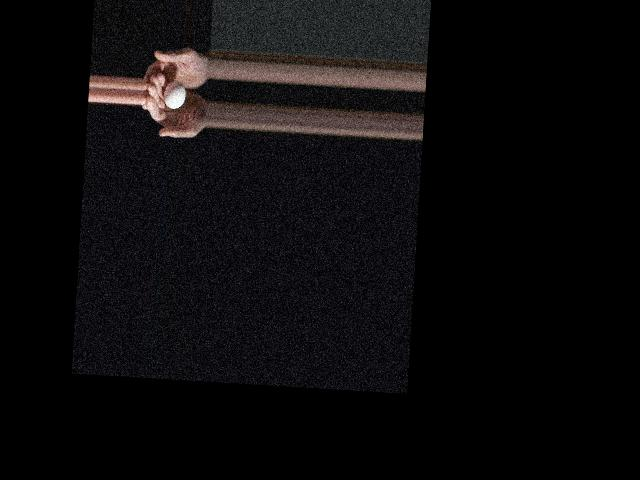egg: (162, 80, 186, 109)
